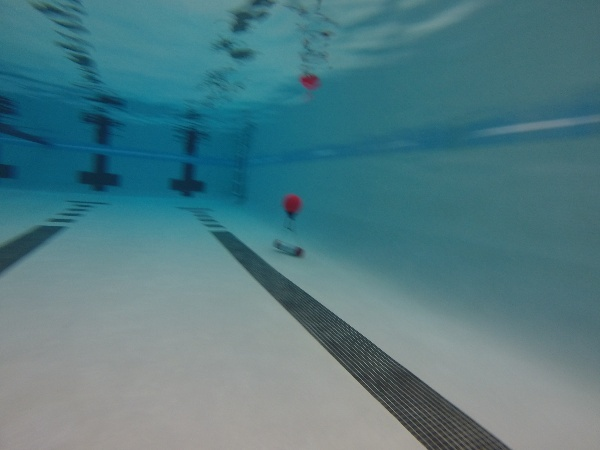buoy_red: (282, 192, 301, 221)
